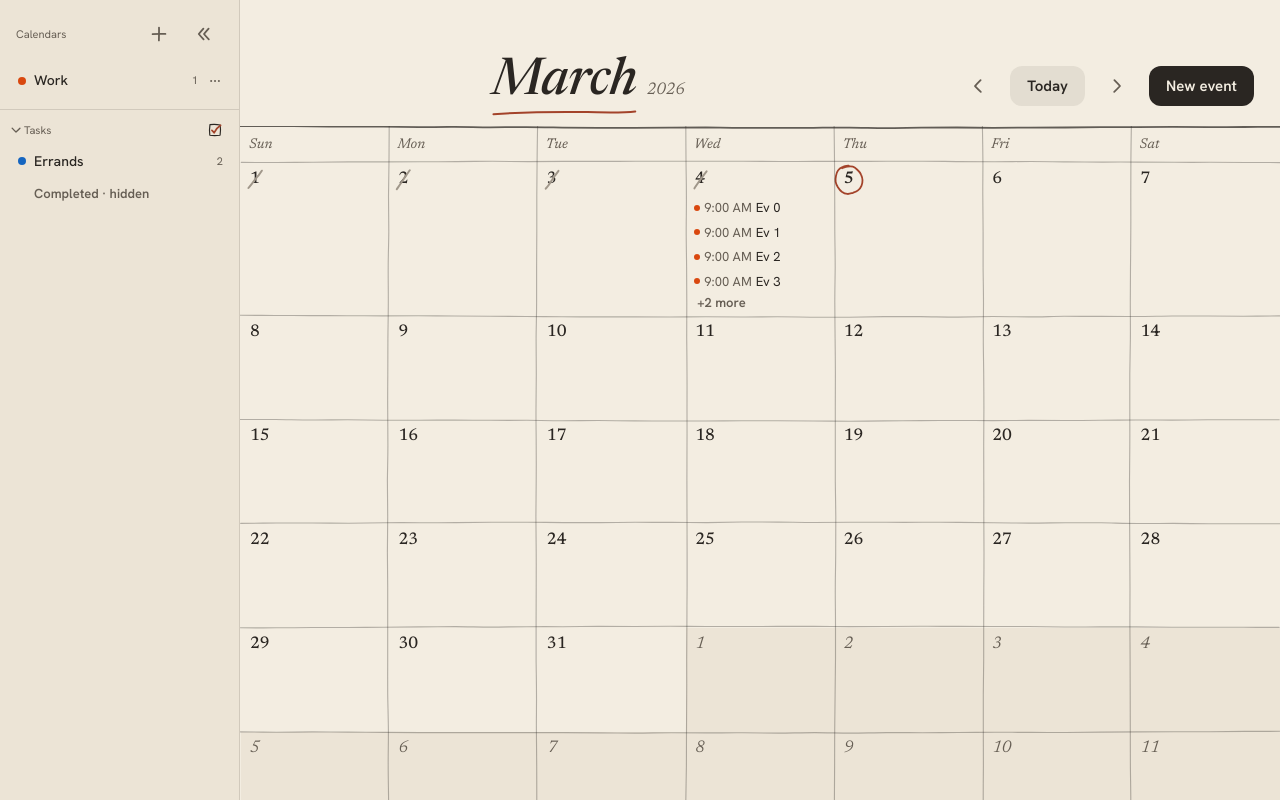
Test: <CalendarView> tasks › lists both kinds in the day popover
Click the button "+2 more".
click(760, 303)  # box [692,295,828,311]
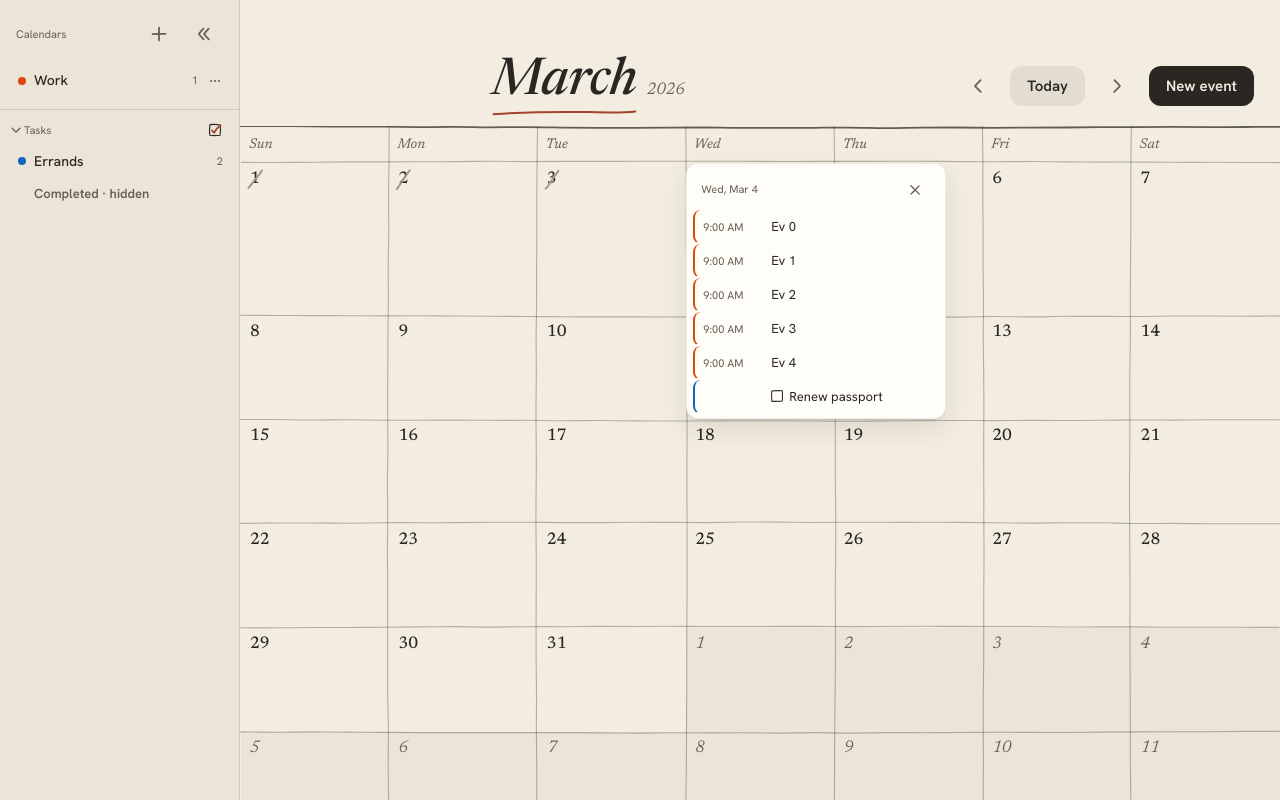
expect the text "Renew passport" is shown: met, box [771,388,883,404]
expect the text "Ev 0" is shown: met, box [771,218,796,234]
